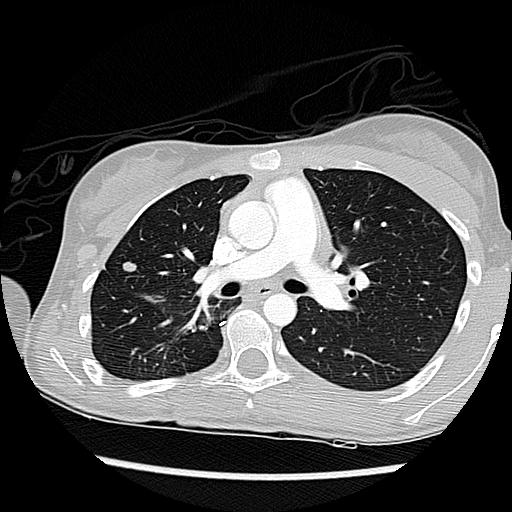nodule: (121, 258, 138, 275)
